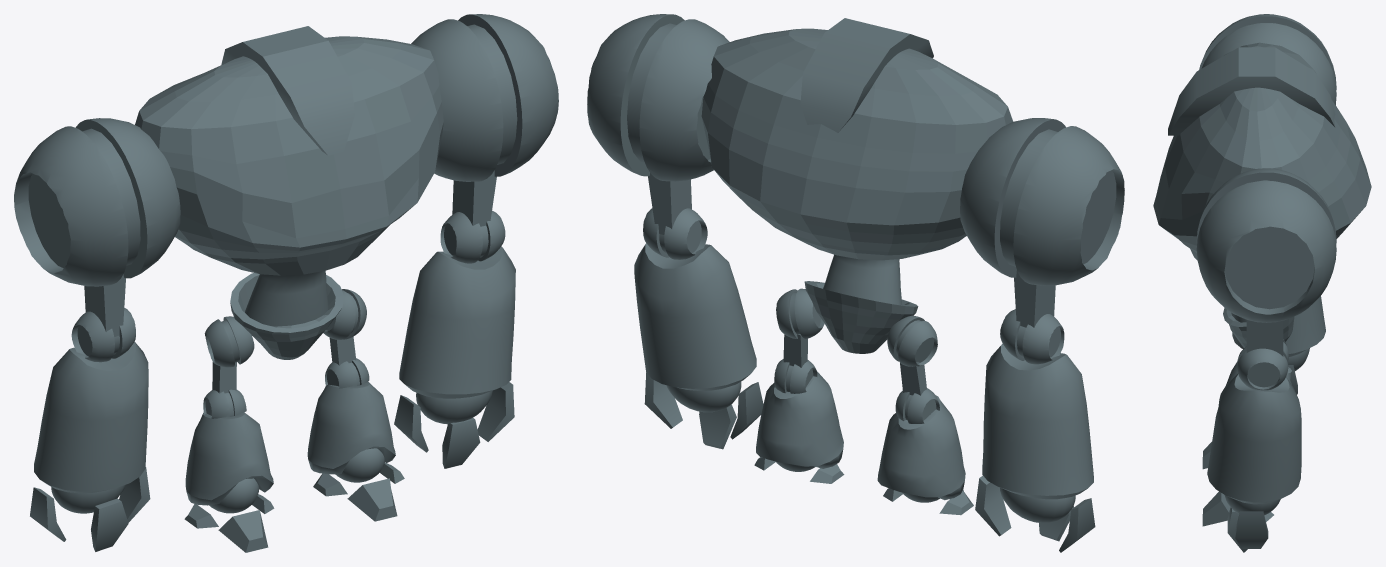
File: robot_test.fbx
The picture shows the model from 3 angles, left to right: view 1: azimuth 30°, elevation 25°; view 2: azimuth 150°, elevation 25°; view 3: azimuth 270°, elevation 25°; orthographic projection. The views are drawn at different scales.
Parts seen in each view (by area): view 1: spine_base, forearm (×2), shoulder1, shoulder, left_shin (×2), robot_head:polySurface1, elbow (×2), bicep (×2), left_middle_finger (×2), left_middle_toe1 (×2), hand (×2), left_thumb (×2) (+6 smaller); view 2: spine_base, forearm (×2), shoulder1, shoulder, left_shin (×2), robot_head:polySurface1, elbow (×2), bicep (×2), hand (×2), left_thumb (×2), left_knee (×2), left_hip1 (+4 smaller); view 3: spine_base, shoulder, forearm (×2), robot_head:polySurface1, shoulder1, elbow, bicep, left_thumb, left_middle_toe1, hand, left_middle_finger.
Part boxes in pixels (x1=…): spine_base: x1=135, y1=36, x2=443, y2=359; forearm (×2): x1=34, y1=246, x2=515, y2=493; shoulder1: x1=14, y1=118, x2=180, y2=286; shoulder: x1=411, y1=14, x2=558, y2=181; left_shin (×2): x1=185, y1=382, x2=395, y2=505; robot_head:polySurface1: x1=221, y1=26, x2=354, y2=155; elbow (×2): x1=71, y1=210, x2=505, y2=362; bicep (×2): x1=84, y1=170, x2=496, y2=336; left_middle_finger (×2): x1=91, y1=417, x2=480, y2=551; left_middle_toe1 (×2): x1=218, y1=478, x2=397, y2=552; hand (×2): x1=51, y1=391, x2=492, y2=513; left_thumb (×2): x1=119, y1=382, x2=514, y2=522; spine_base: x1=701, y1=28, x2=1013, y2=353; forearm (×2): x1=634, y1=243, x2=1093, y2=499; shoulder1: x1=960, y1=118, x2=1124, y2=285; shoulder: x1=587, y1=14, x2=729, y2=181; left_shin (×2): x1=756, y1=371, x2=965, y2=500; robot_head:polySurface1: x1=800, y1=18, x2=933, y2=132; elbow (×2): x1=643, y1=208, x2=1064, y2=364; bicep (×2): x1=648, y1=173, x2=1055, y2=327; hand (×2): x1=666, y1=382, x2=1075, y2=522; left_thumb (×2): x1=644, y1=372, x2=1011, y2=536; left_knee (×2): x1=774, y1=359, x2=939, y2=423; left_hip1: x1=887, y1=315, x2=937, y2=366; spine_base: x1=1153, y1=42, x2=1371, y2=347; shoulder: x1=1196, y1=168, x2=1336, y2=322; forearm (×2): x1=1207, y1=296, x2=1325, y2=504; robot_head:polySurface1: x1=1168, y1=47, x2=1335, y2=135; shoulder1: x1=1199, y1=14, x2=1336, y2=104; elbow: x1=1237, y1=346, x2=1288, y2=390; bicep: x1=1246, y1=320, x2=1283, y2=356; left_thumb: x1=1235, y1=511, x2=1268, y2=548; left_middle_toe1: x1=1202, y1=491, x2=1230, y2=526; hand: x1=1224, y1=495, x2=1280, y2=515; left_middle_finger: x1=1227, y1=507, x2=1247, y2=552.
Bounding box in the file's own units: 14.3 × 12.91 × 5.96.
